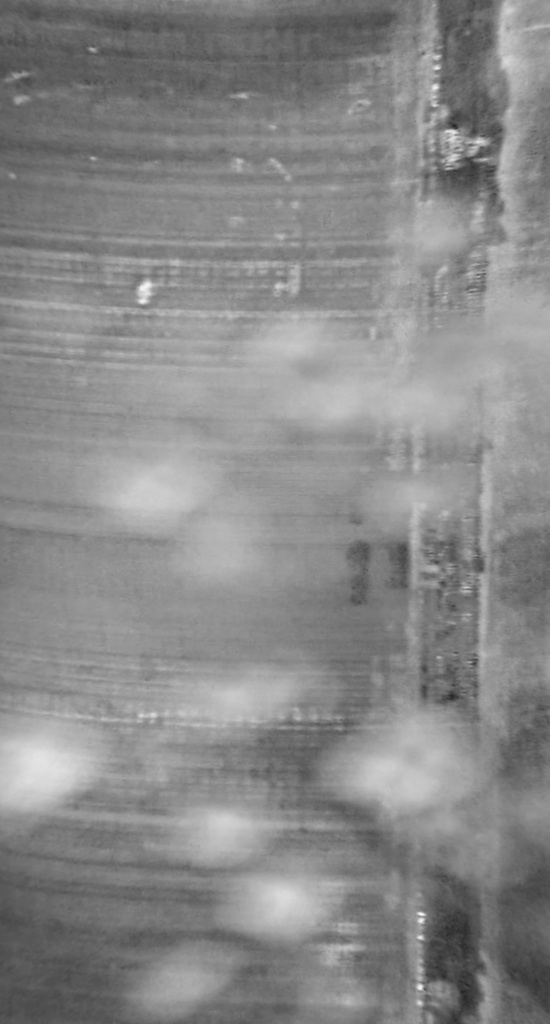splice: (404, 1, 501, 1021)
